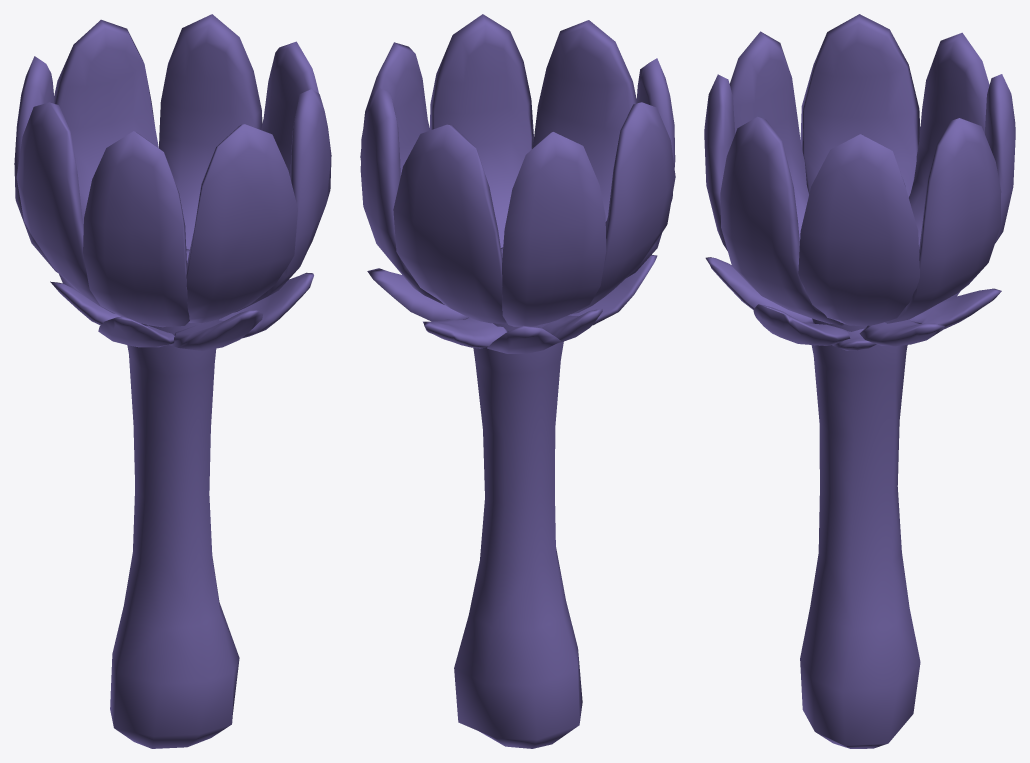
The model's file is bebedero.fbx.
3 renders of one model, left to right at view 1: azimuth 30°, elevation 25°; view 2: azimuth 150°, elevation 25°; view 3: azimuth 270°, elevation 25°, orthographic.
Visible parts, largest first — view 1: tronco_lp, petalo8_lp, petalo1_lp, petalo6_lp, petalo3_lp, petalo2_lp, petalo5_lp, petalo4_lp, petalo7_lp, hoja4_lp, hoja5_lp, hoja3_lp (+1 smaller); view 2: tronco_lp, petalo7_lp, petalo3_lp, petalo5_lp, petalo1_lp, petalo2_lp, petalo6_lp, petalo4_lp, hoja7_lp, petalo8_lp, hoja8_lp, hoja1_lp (+2 smaller); view 3: tronco_lp, petalo4_lp, petalo2_lp, petalo5_lp, petalo6_lp, petalo7_lp, petalo8_lp, petalo1_lp, petalo3_lp, hoja5_lp, hoja8_lp, hoja7_lp (+1 smaller).
Boxes of the visible parts, x1,y1,x2,y2 form: tronco_lp: (110,249,239,748); petalo8_lp: (83,131,189,327); petalo1_lp: (186,124,297,323); petalo6_lp: (159,14,262,249); petalo3_lp: (54,19,158,222); petalo2_lp: (16,102,114,313); petalo5_lp: (233,89,331,312); petalo4_lp: (261,41,318,176); petalo7_lp: (14,56,58,273); hoja4_lp: (169,310,262,350); hoja5_lp: (219,272,313,338); hoja3_lp: (98,316,174,347); tronco_lp: (454,247,582,748); petalo7_lp: (502,132,606,326); petalo3_lp: (393,124,506,323); petalo5_lp: (430,14,533,247); petalo1_lp: (532,20,636,221); petalo2_lp: (571,102,675,314); petalo6_lp: (360,88,444,304); petalo4_lp: (360,42,430,175); hoja7_lp: (367,268,468,321); petalo8_lp: (605,58,675,277); hoja8_lp: (423,317,508,348); hoja1_lp: (487,325,561,353); tronco_lp: (800,318,920,748); petalo4_lp: (798,134,919,325); petalo2_lp: (800,14,920,197); petalo5_lp: (720,116,843,325); petalo6_lp: (885,118,1001,323); petalo7_lp: (909,32,989,248); petalo8_lp: (729,31,808,240); petalo1_lp: (704,74,734,250); petalo3_lp: (985,74,1015,243); hoja5_lp: (753,304,850,345); hoja8_lp: (908,288,1001,329); hoja7_lp: (859,320,944,346).
Size of the model in its own units: 38.39 by 90.54 by 38.39.
